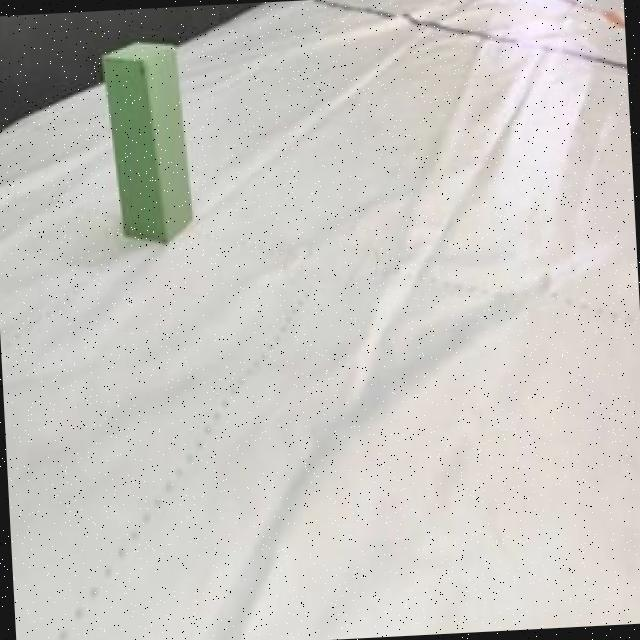greenbox: (100, 39, 192, 246)
